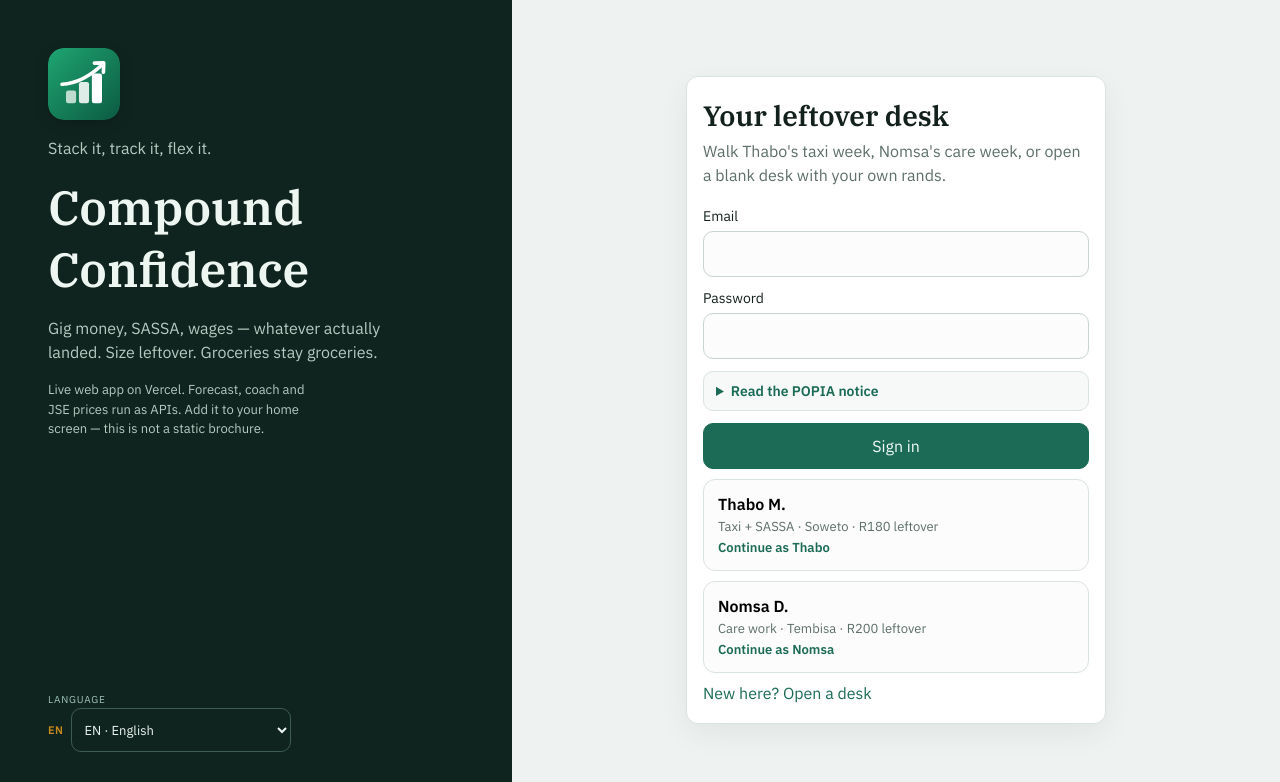
Scenario: Compound Confidence dashboard › opens an account with 30 days of transactions and moves money
The width and height of the screenshot is (1280, 782).
Click the button with test id "demo-login" at (896, 525), box [703,479,1089,571]
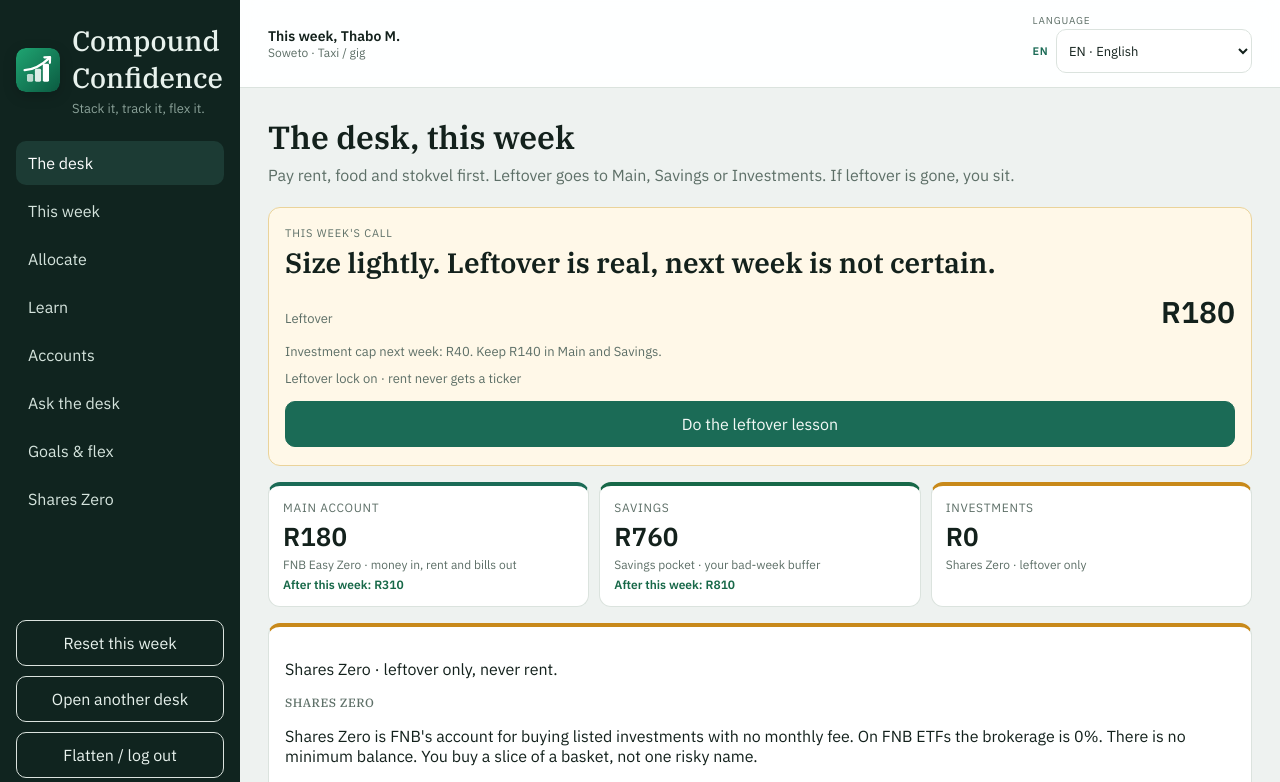
Click the button with test id "account-main" at (331, 507), box [268,482,589,607]
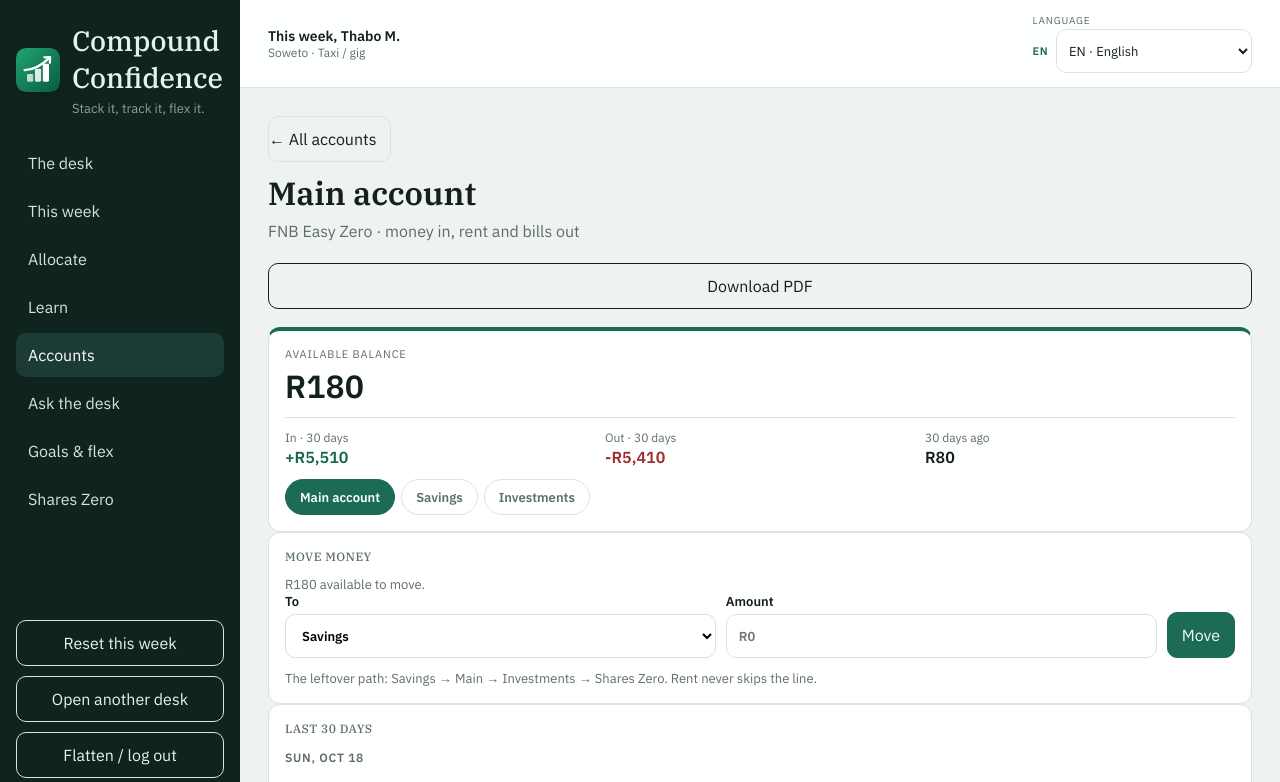
Now the text with test id "detail-balance" reads "R180", box [285,365,364,407]
Type "100" into the number field labelled "Amount" at (941, 636), box [726,614,1157,658]
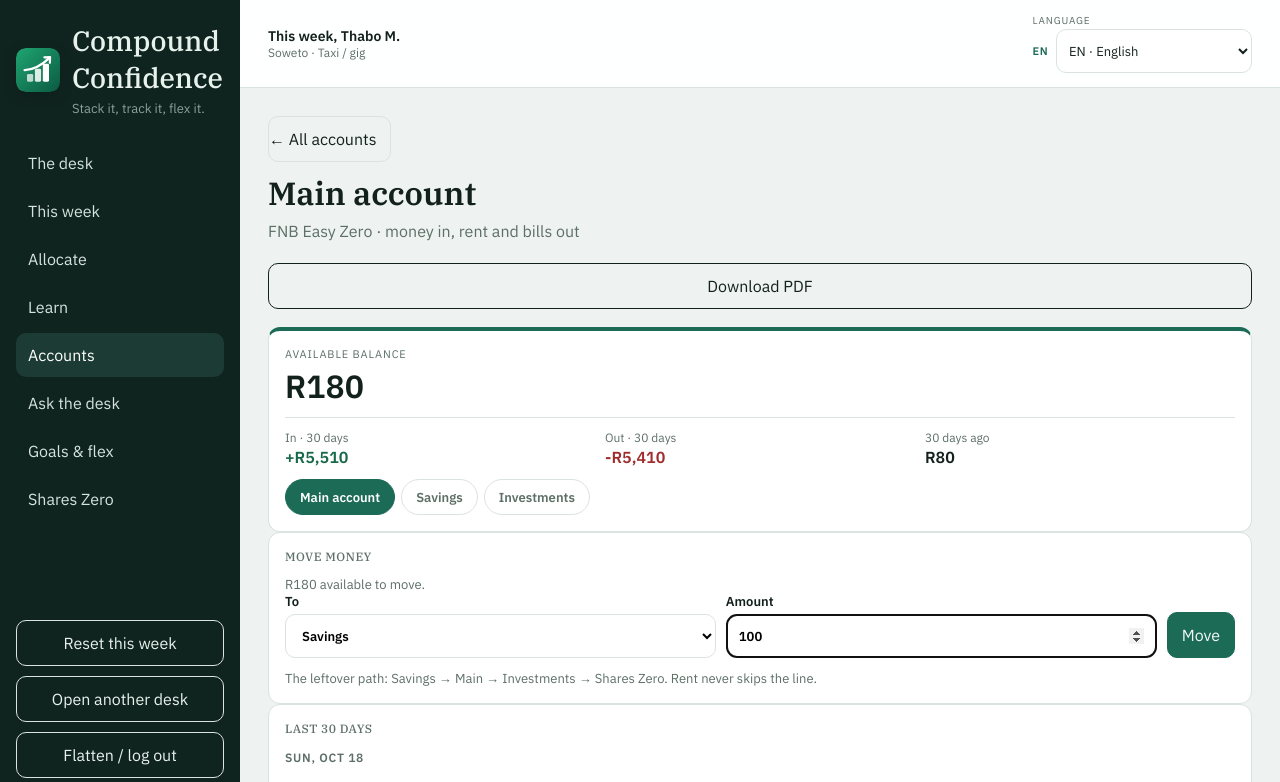
Click the button "Move" at (1201, 635), box [1167,612,1235,658]
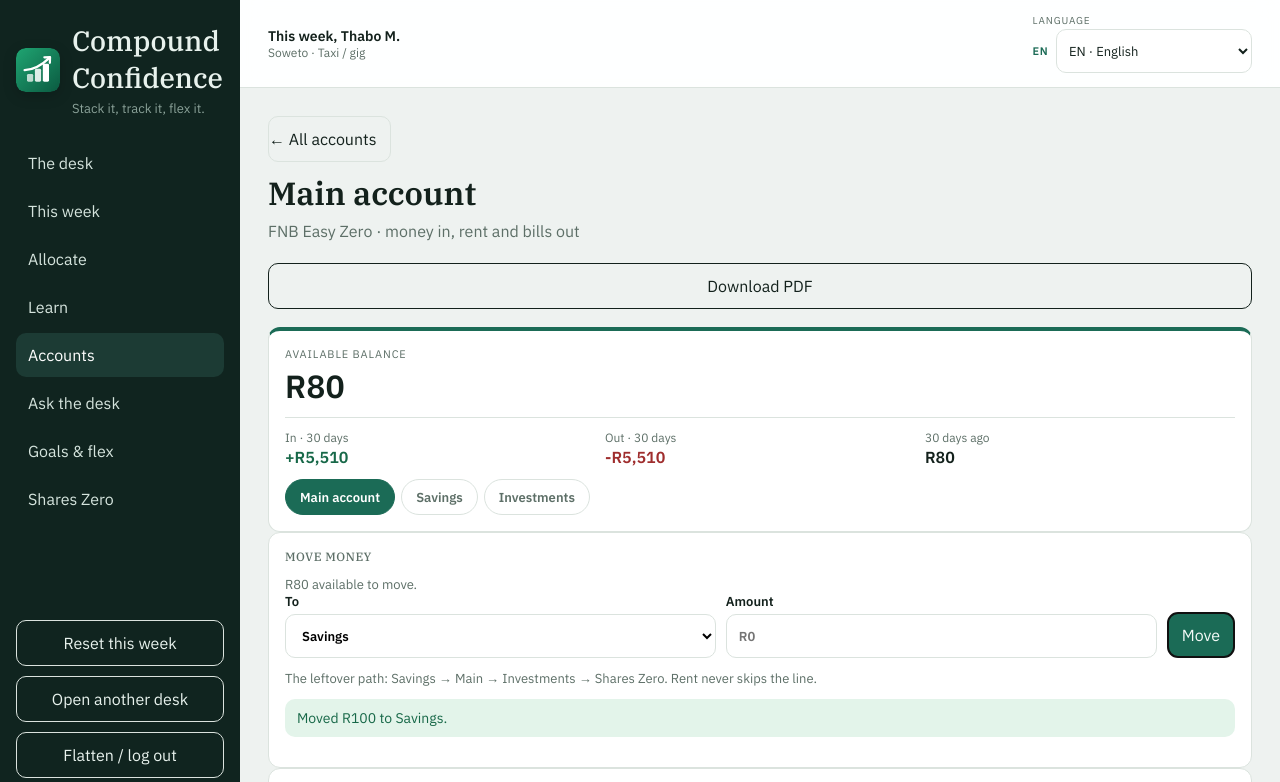
Now the message with test id "move-status" shows "Moved R100 to Savings", box [297,709,447,727]
Now the text with test id "detail-balance" reads "R80", box [285,365,345,407]
Click the tab "Savings" at (439, 497), box [401,479,478,515]
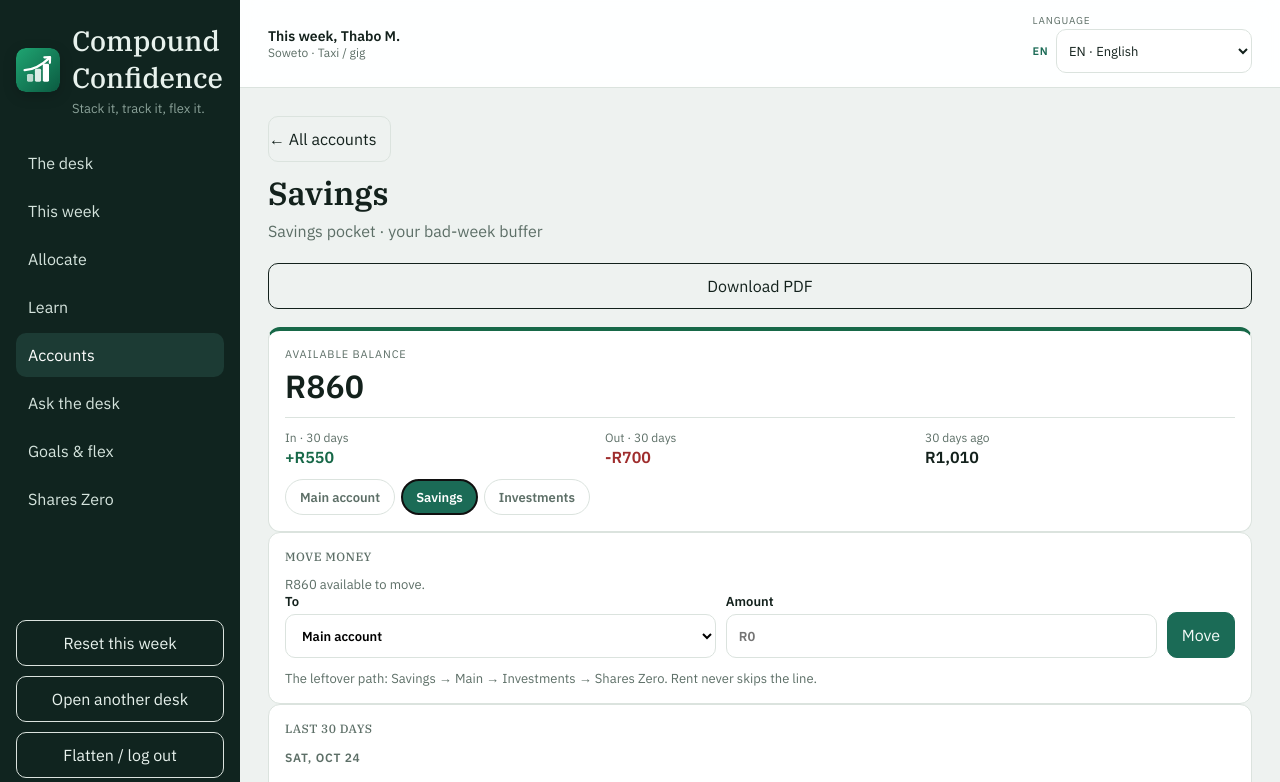
Now the text with test id "detail-balance" reads "R860", box [285,365,364,407]
Click the button "← All accounts" at (330, 139), box [268,116,391,162]
(page scrolled)
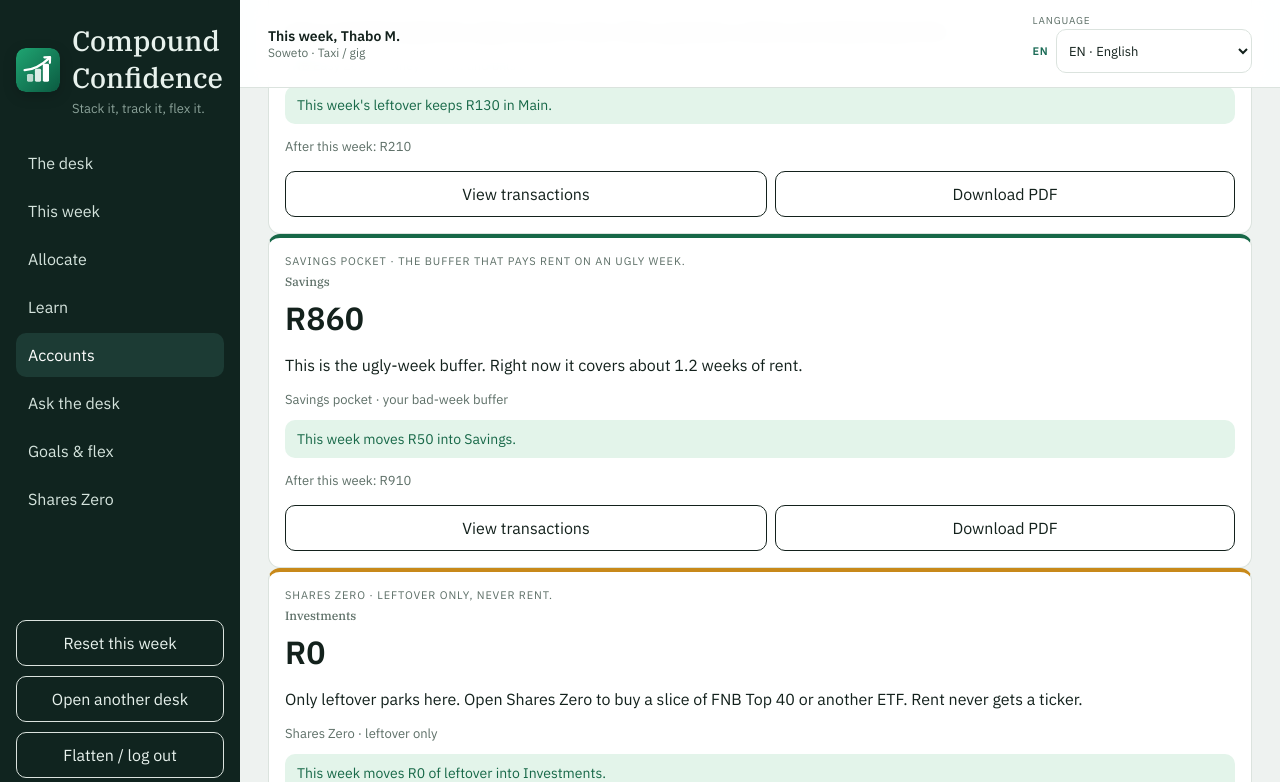
Now the element with test id "account-page-savings" shows "R860", box [285,297,364,339]
